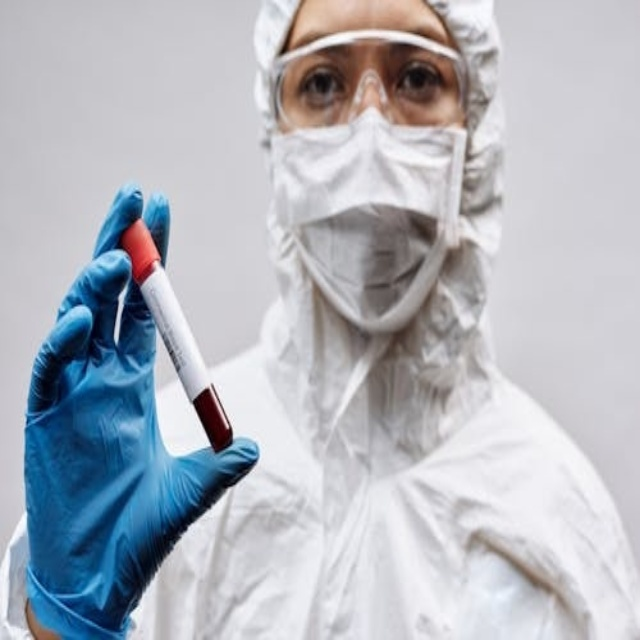Gafas: (272, 32, 466, 136)
Guantes: (20, 182, 258, 638)
Mascara: (270, 35, 470, 333)
